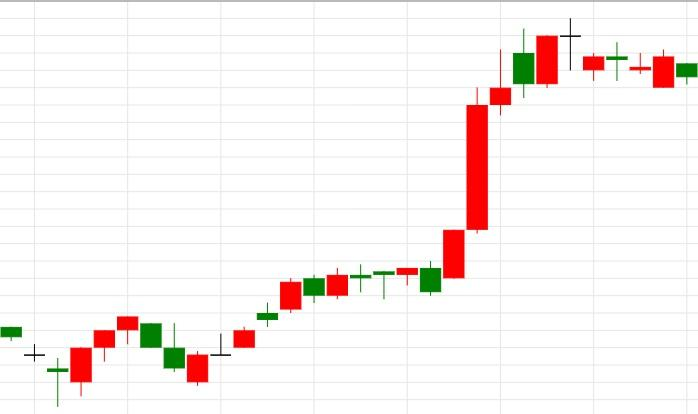shooting_star_fall: (419, 49, 511, 296)
three_white_soldiers_rise: (1, 315, 139, 406)
